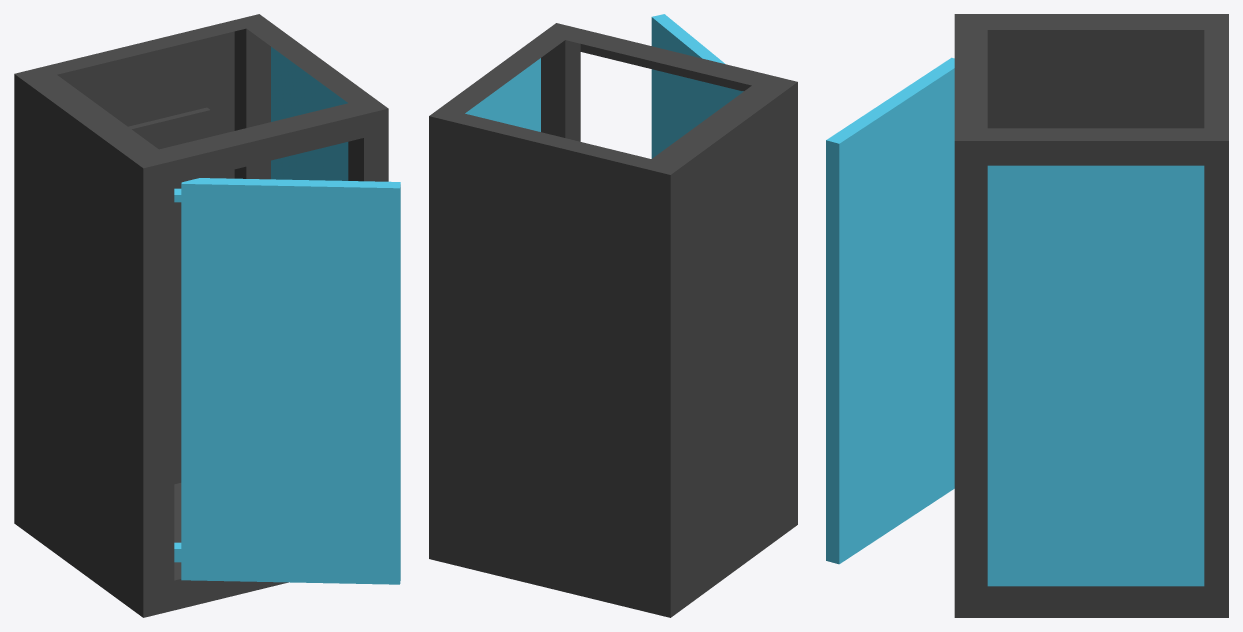
Rendered from Dusche.fbx.
3 views of the same model, side by side, from view 1: azimuth 30°, elevation 25°; view 2: azimuth 150°, elevation 25°; view 3: azimuth 270°, elevation 25° (orthographic). The views are drawn at different scales.
Visible parts, largest first — view 1: Cube, Cube.002, Cube.001; view 2: Cube, Cube.002, Cube.001; view 3: Cube.001, Cube, Cube.002.
Boxes of the visible parts, x1=… form: Cube: x1=14, y1=14, x2=388, y2=617; Cube.002: x1=174, y1=178, x2=400, y2=584; Cube.001: x1=271, y1=47, x2=348, y2=180; Cube: x1=429, y1=23, x2=797, y2=617; Cube.002: x1=651, y1=14, x2=743, y2=158; Cube.001: x1=465, y1=58, x2=540, y2=131; Cube.001: x1=987, y1=165, x2=1204, y2=586; Cube: x1=954, y1=14, x2=1228, y2=617; Cube.002: x1=826, y1=57, x2=954, y2=564.
Bounding box in the file's own units: 233 × 408 × 312.
